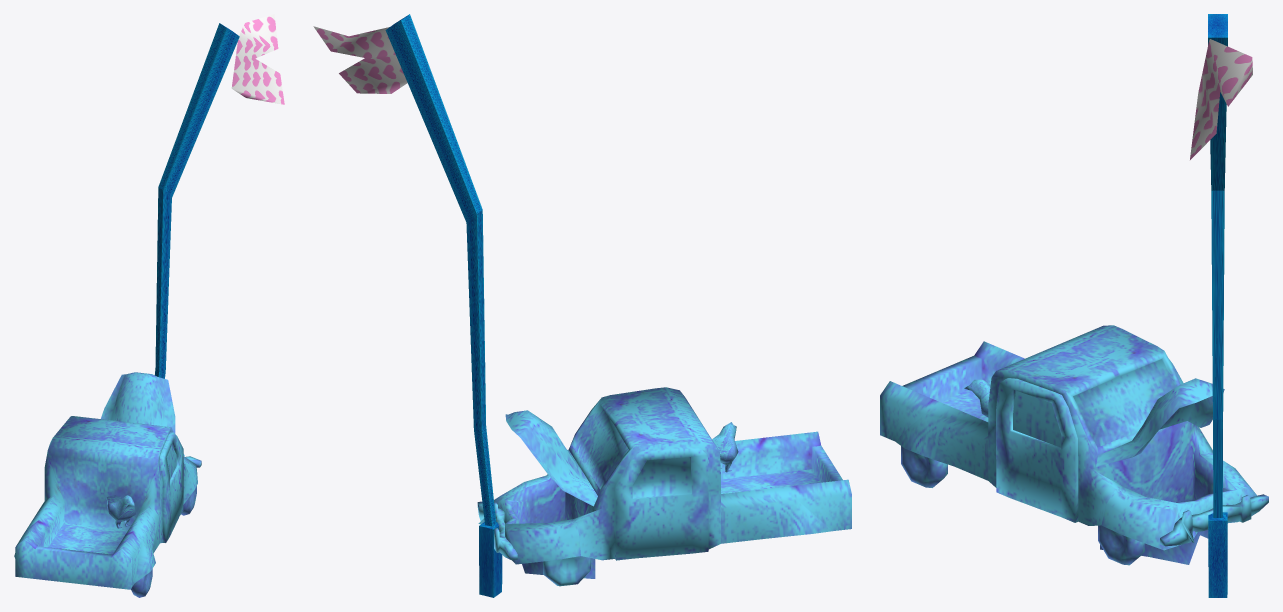
Rendered from HD_Harvester_Car_TEST_001.FBX.
3 views of the same model, side by side, from view 1: azimuth 30°, elevation 25°; view 2: azimuth 150°, elevation 25°; view 3: azimuth 270°, elevation 25° (orthographic). The views are drawn at different scales.
Parts seen in each view (by area): view 1: HD_Harvester_car_TEST_001; view 2: HD_Harvester_car_TEST_001; view 3: HD_Harvester_car_TEST_001.
Part boxes in pixels (x1,y1,x2,y2): HD_Harvester_car_TEST_001: (14,14,284,597); HD_Harvester_car_TEST_001: (313,14,851,597); HD_Harvester_car_TEST_001: (880,14,1268,597).
Bounding box in the file's own units: 270 × 338 × 190.
3 materials, 3 textured.
